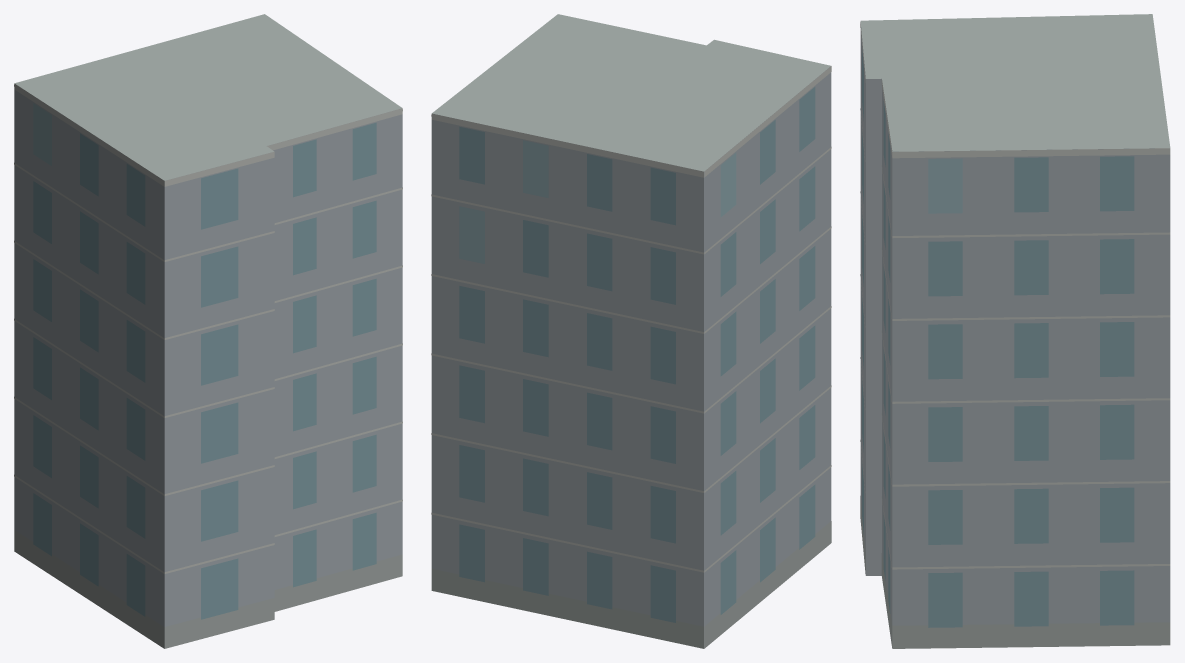
The model's file is survey-upis-32701661.glb.
3 renders of one model, left to right at view 1: azimuth 30°, elevation 25°; view 2: azimuth 150°, elevation 25°; view 3: azimuth 270°, elevation 25°, orthographic. The views are drawn at different scales.
Parts seen in each view (by area): view 1: survey-upis-32701661.tmp; view 2: survey-upis-32701661.tmp; view 3: survey-upis-32701661.tmp.
Part boxes in pixels (bbox=[...]): survey-upis-32701661.tmp: bbox=[14, 14, 402, 648]; survey-upis-32701661.tmp: bbox=[431, 14, 831, 648]; survey-upis-32701661.tmp: bbox=[860, 14, 1170, 648].
Bounding box in the file's own units: 11.2 × 18.8 × 10.65.
